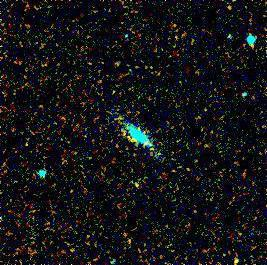star: (120, 171, 150, 201)
